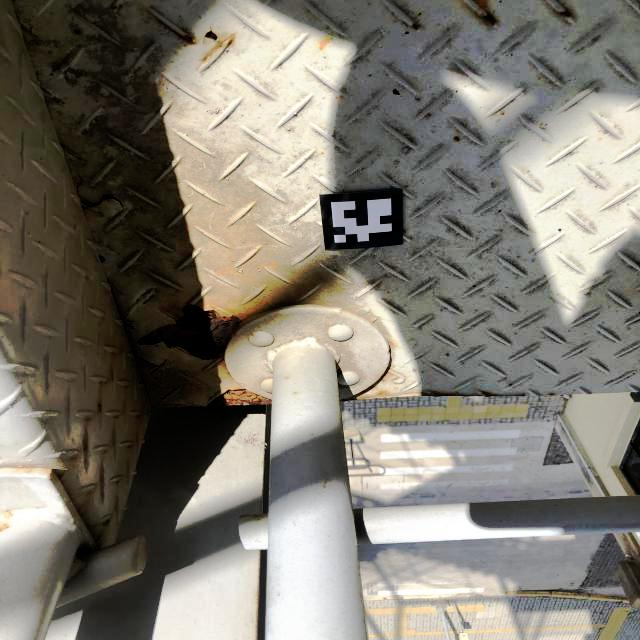Corrosion: (138, 304, 242, 360), (210, 389, 272, 406), (202, 38, 232, 61), (254, 586, 259, 636), (204, 28, 218, 40), (483, 13, 497, 25), (557, 9, 572, 18), (411, 23, 420, 31), (186, 35, 193, 42)
